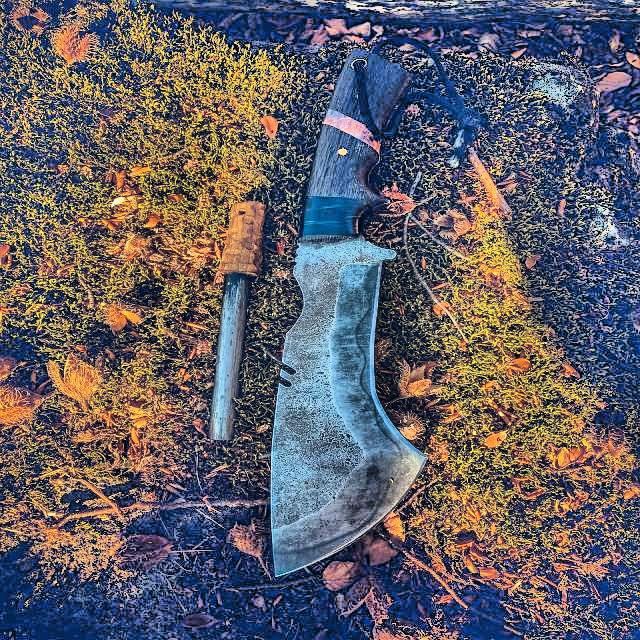knife: (258, 38, 430, 592)
